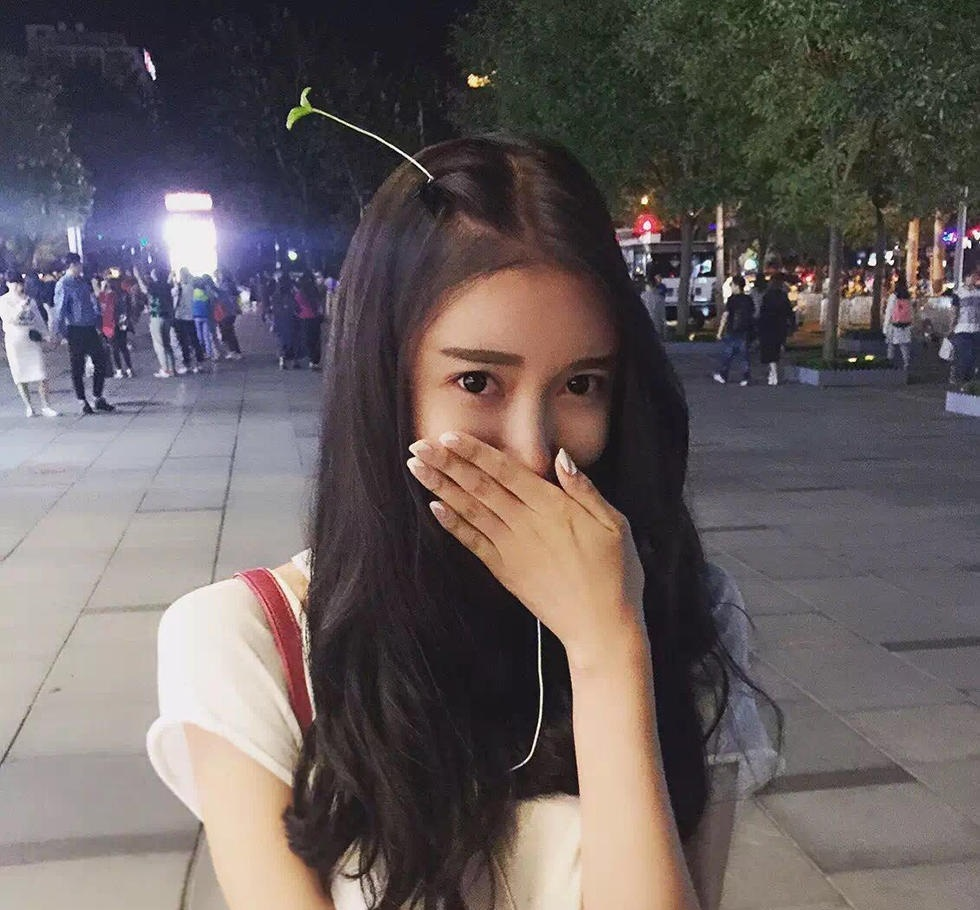face: (408, 258, 621, 552)
